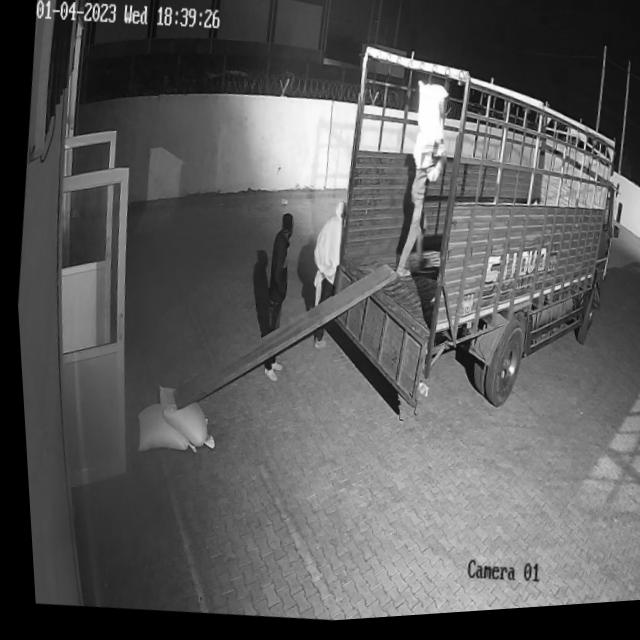sack: (146, 383, 214, 453), (128, 399, 194, 458), (407, 82, 452, 163)
